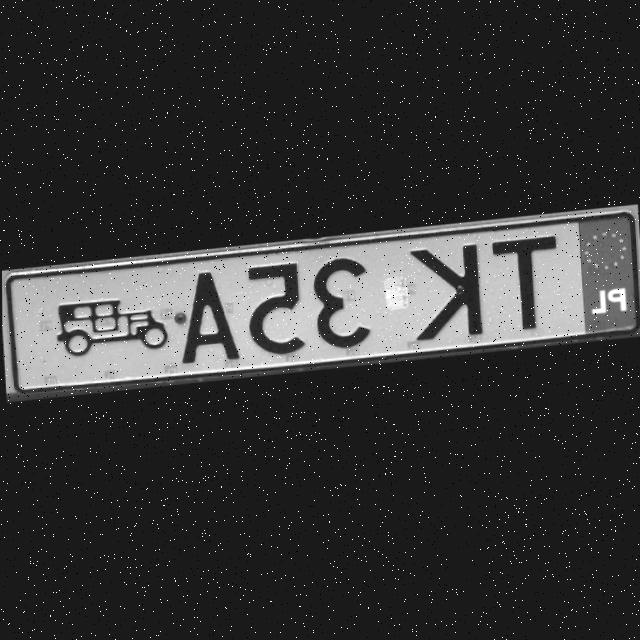license-plates: (2, 206, 640, 393)
